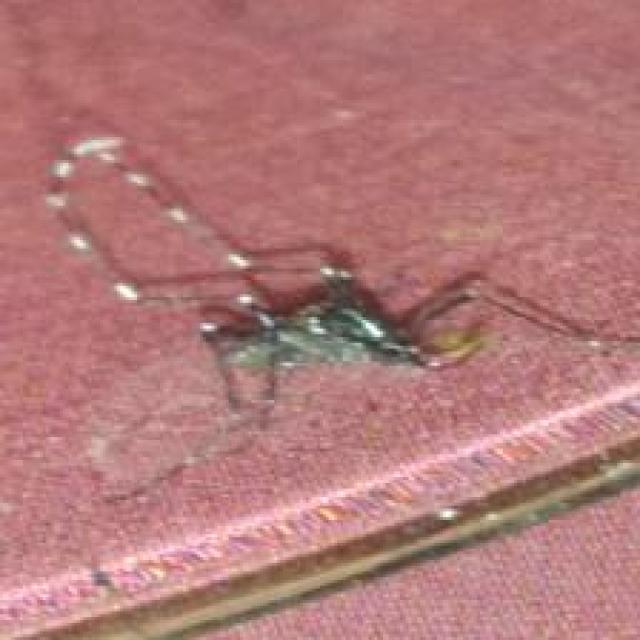Aedes albopictus: (42, 130, 607, 439)
